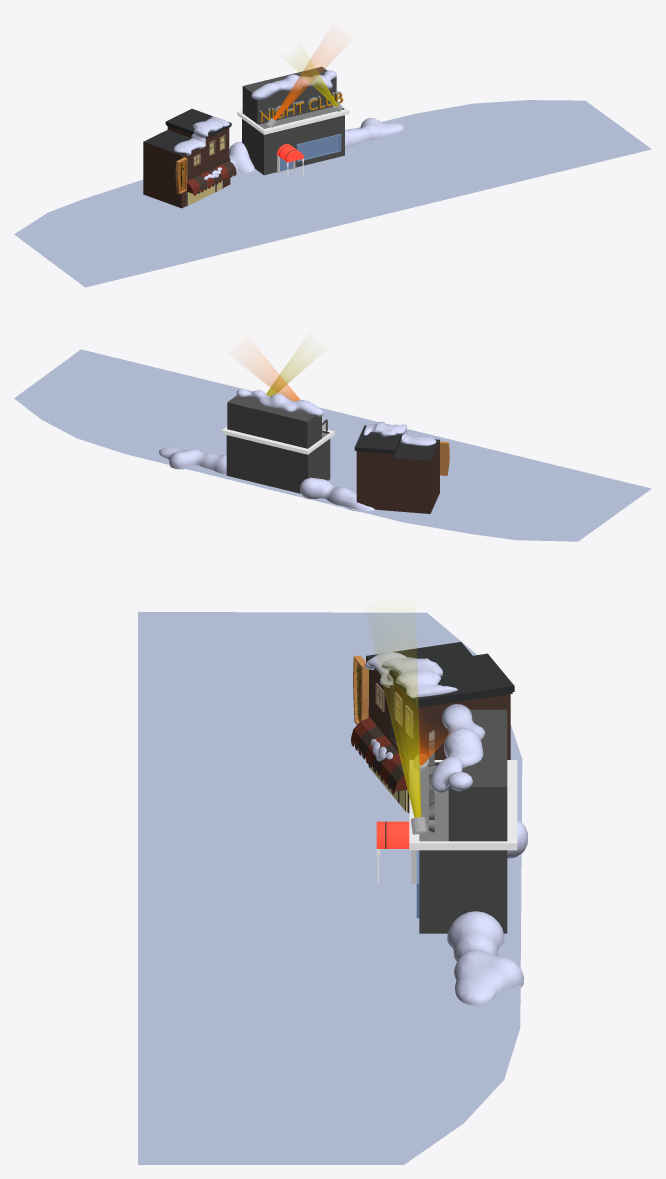
Rendered from town.gltf.
3 renders of one model, top to bottom at view 1: azimuth 30°, elevation 25°; view 2: azimuth 150°, elevation 25°; view 3: azimuth 270°, elevation 25°, orthographic. The views are drawn at different scales.
Visible parts, largest first — view 1: ground, ground-clickable, coffee-shop, club, second-floor, snow, light-bucket, snow-3, snow-2, window, coffee-shop-cover, light-bucket-2 (+1 smaller); view 2: ground-clickable, ground, coffee-shop, club, second-floor, snow, snow-3, light-bucket, snow-2, light-bucket-2; view 3: ground, ground-clickable, club, coffee-shop, second-floor, snow, light-bucket-2, snow-3, snow-2, coffee-shop-cover, cover, coffee-shop-sign-frame.
Boxes of the visible parts, x1,y1,x2,y2 form: ground: (14,100,651,287); ground-clickable: (41,108,650,284); coffee-shop: (143,108,231,208); club: (237,104,349,175); second-floor: (242,66,336,124); snow: (229,118,405,172); light-bucket: (266,46,334,127); snow-3: (251,70,336,99); snow-2: (174,116,229,155); window: (296,134,341,161); coffee-shop-cover: (186,161,236,195); light-bucket-2: (294,55,342,111); ground-clickable: (25,350,626,527); ground: (14,349,651,541); coffee-shop: (354,425,439,513); club: (221,426,334,493); second-floor: (227,395,321,448); snow: (159,447,374,511); snow-3: (236,388,323,416); light-bucket: (249,356,325,431); snow-2: (364,421,436,446); light-bucket-2: (266,349,311,396); ground: (138,611,522,1164); ground-clickable: (138,623,513,1164); club: (409,760,517,933); coffee-shop: (366,642,514,813); second-floor: (448,709,507,841); snow: (447,819,527,1005); light-bucket-2: (377,650,426,834); snow-3: (430,704,485,793); snow-2: (364,651,457,698); coffee-shop-cover: (351,717,408,794); cover: (376,821,409,848); coffee-shop-sign-frame: (353,655,368,724).
Bounding box in the file's own units: 68.45 × 17.6 × 20.41.
Materials: 24 (1 with a texture image).
